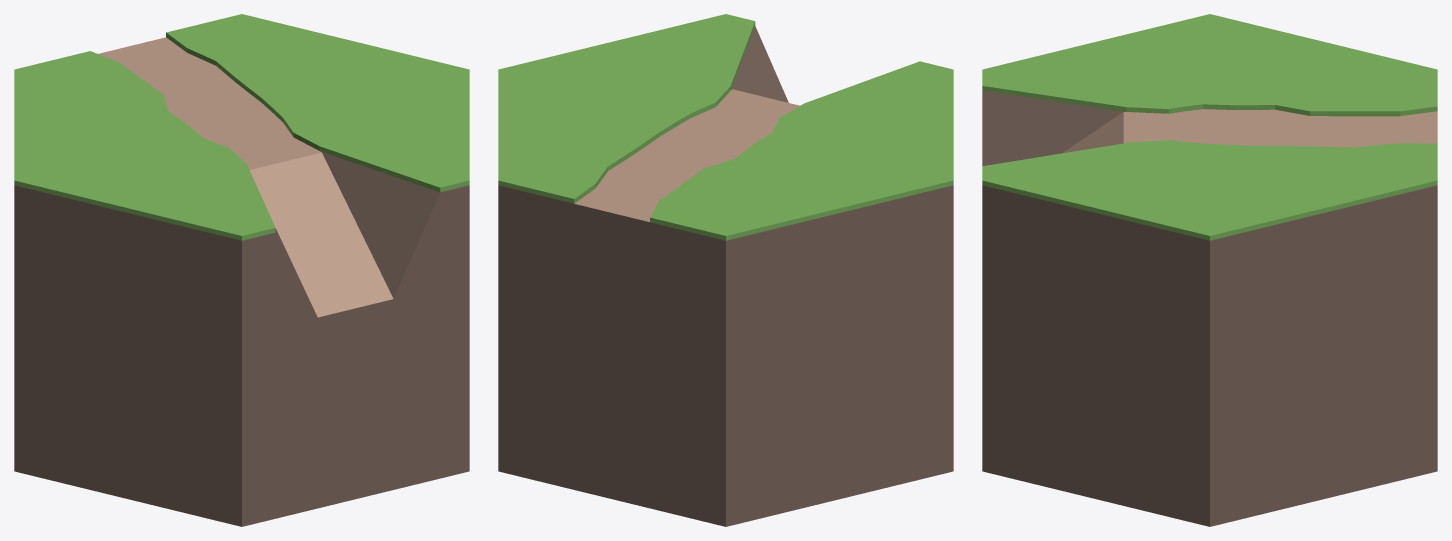
The model's file is tile_roadUp3.fbx.
The picture shows the model from 3 angles, left to right: view 1: azimuth 30°, elevation 25°; view 2: azimuth 150°, elevation 25°; view 3: azimuth 270°, elevation 25°; orthographic projection.
Visible parts, largest first — view 1: Tile_Road_Up4; view 2: Tile_Road_Up4; view 3: Tile_Road_Up4.
Boxes of the visible parts, x1=… form: Tile_Road_Up4: x1=14, y1=14, x2=469, y2=526; Tile_Road_Up4: x1=498, y1=14, x2=953, y2=526; Tile_Road_Up4: x1=982, y1=14, x2=1437, y2=526.
Size of the model in its own units: 2 by 1.22 by 1.73.
